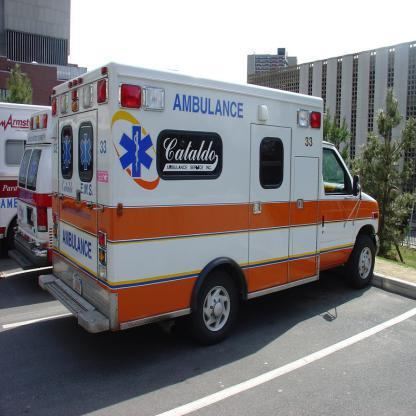Ambulance - v1 Ambulance last generate: (39, 60, 383, 340), (8, 108, 53, 272)
